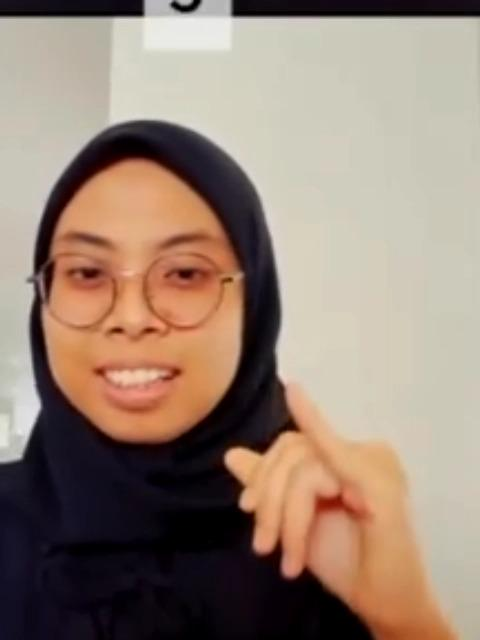J: (208, 386, 418, 614)
